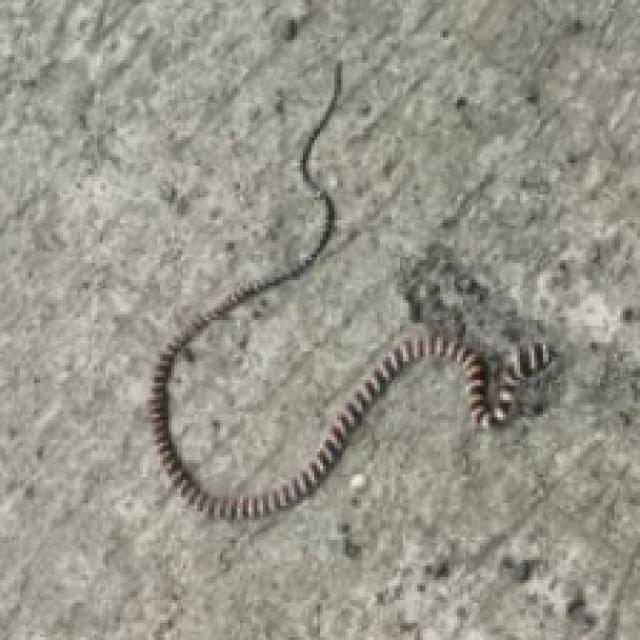paradise tree snake: (149, 63, 551, 517)
